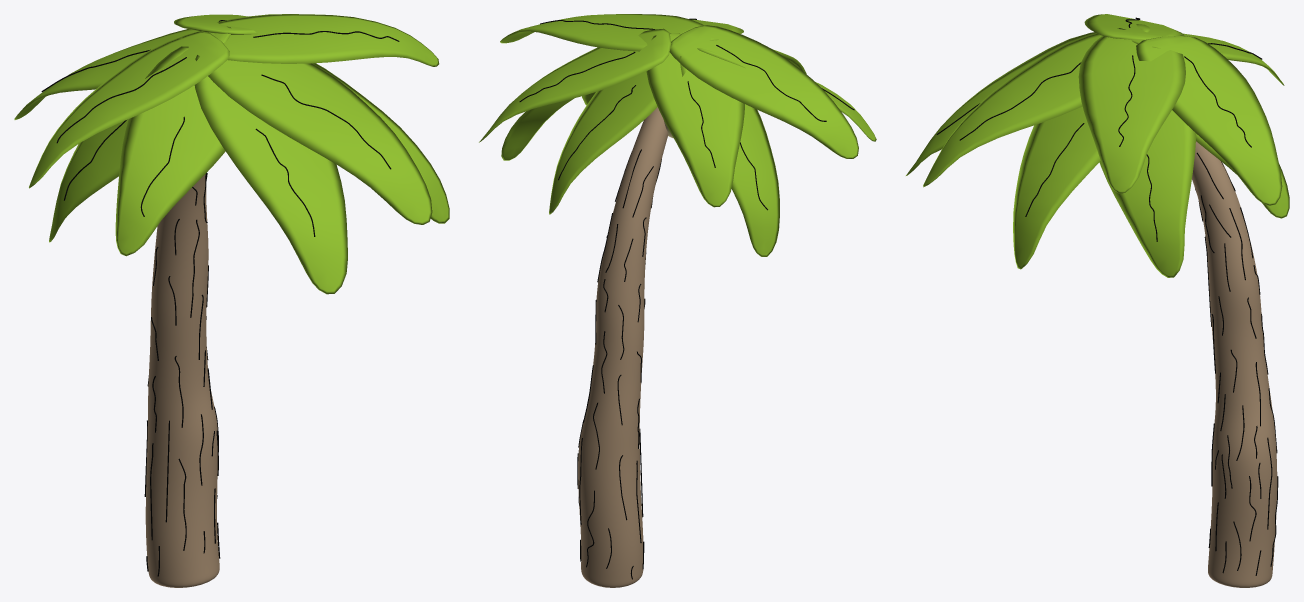
File: palm4.fbx
3 views of the same model, side by side, from view 1: azimuth 30°, elevation 25°; view 2: azimuth 150°, elevation 25°; view 3: azimuth 270°, elevation 25° (orthographic). The views are drawn at different scales.
Parts seen in each view (by area): view 1: palm4; view 2: palm4; view 3: palm4.
Part boxes in pixels (x1=…): palm4: x1=14, y1=14, x2=449, y2=587; palm4: x1=479, y1=14, x2=876, y2=587; palm4: x1=906, y1=14, x2=1289, y2=587.
Size of the model in its own units: 208 by 285 by 186.
